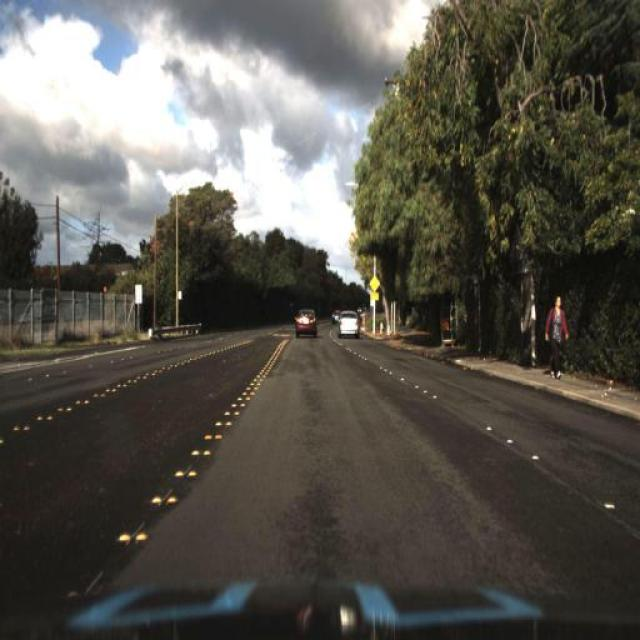car: (290, 303, 320, 346), (333, 306, 361, 338)
trafficLight: (545, 296, 569, 382)
